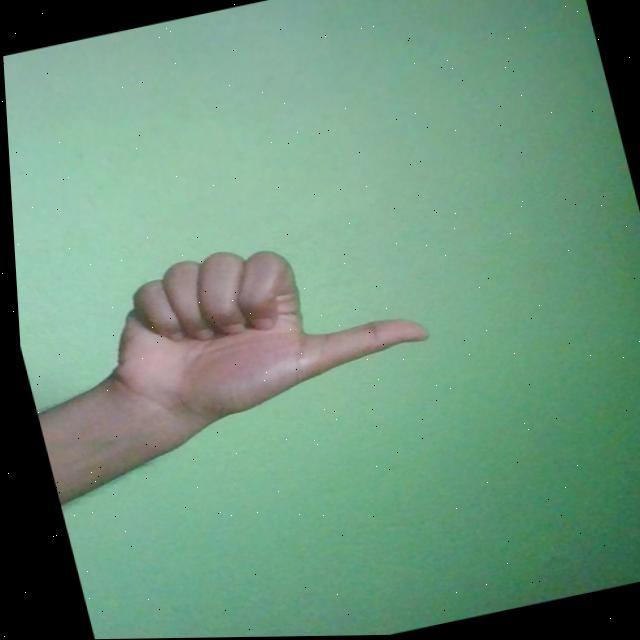Good Job: (76, 215, 438, 438)
